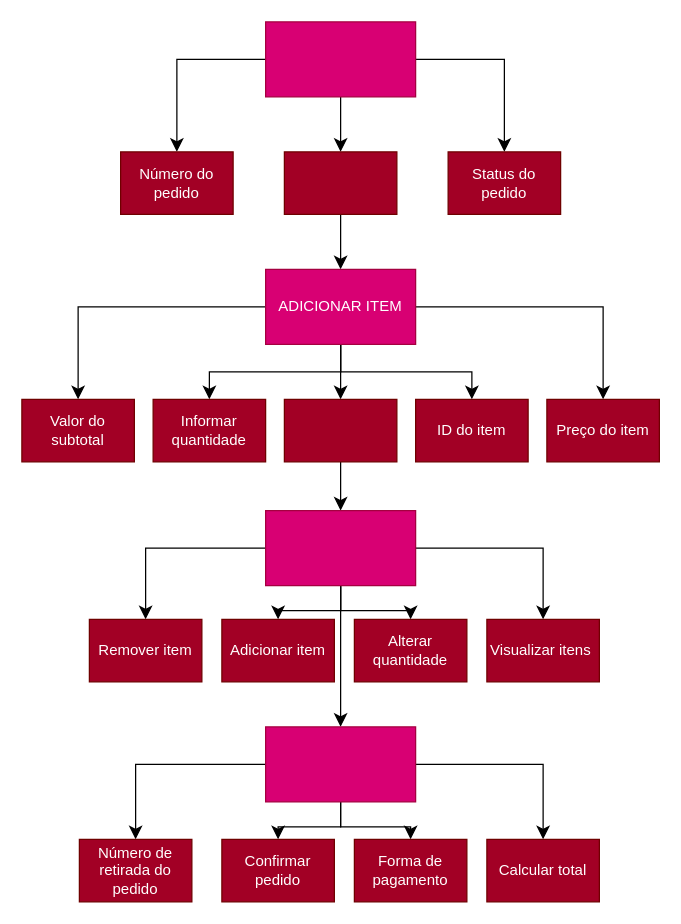
Image size: 681x924. Some labels were removed from this diagram. The centre of each missing label's shape, as x and y in pixels:
"CRIAR PEDIDO" belongs at point (340, 59).
"FINALIZAÇÃO DO PEDIDO" belongs at point (340, 764).
"GERENCIAR ITENS" belongs at point (340, 547).
"Informar item" belongs at point (340, 430).
"Lista dos Itens" belongs at point (340, 182).
